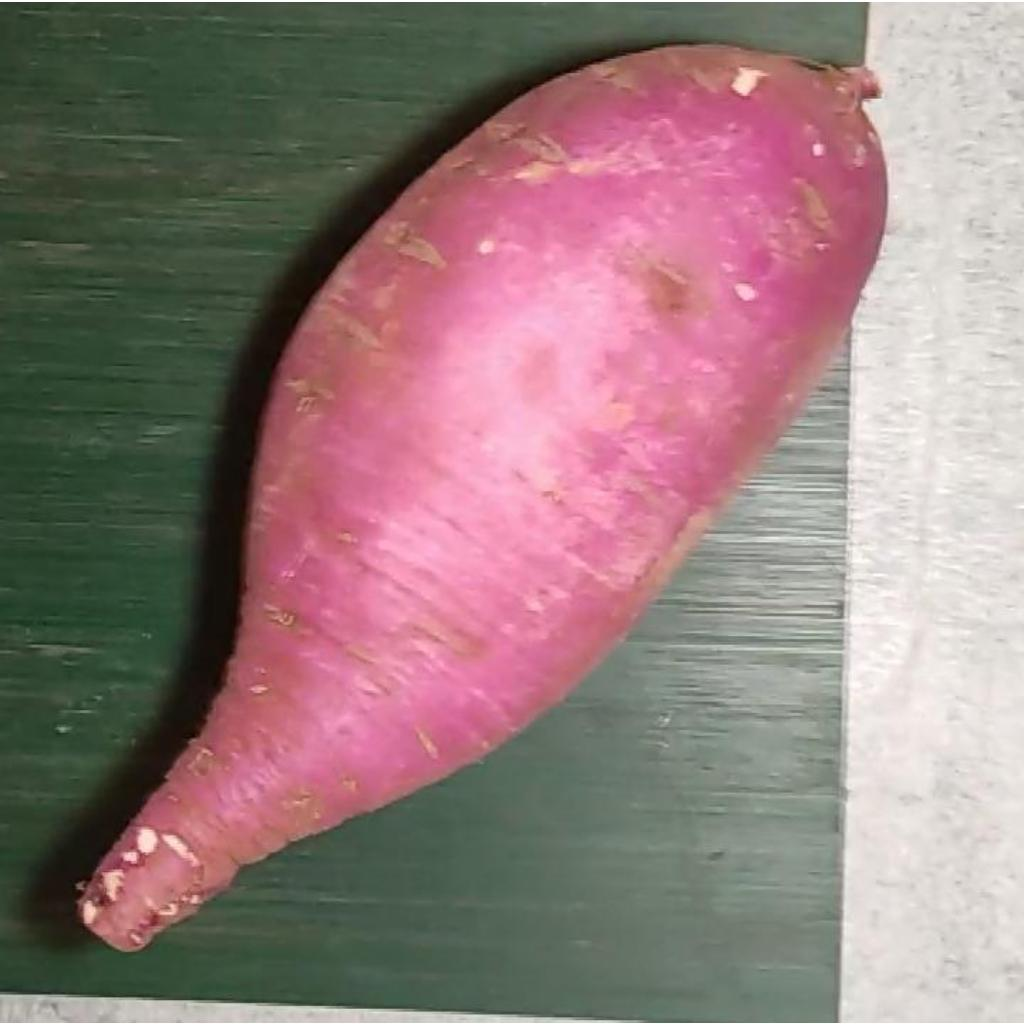Sweet Potato: (82, 44, 889, 944)
